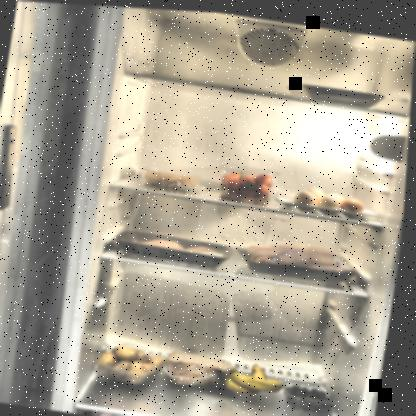banana: (214, 354, 295, 399)
blueberries: (283, 370, 350, 415)
chicken: (239, 226, 372, 282), (114, 226, 237, 268)
eggs: (292, 179, 371, 216)
potato: (98, 338, 172, 385)
shrimp: (144, 165, 202, 188)
strawberries: (221, 164, 277, 197)
